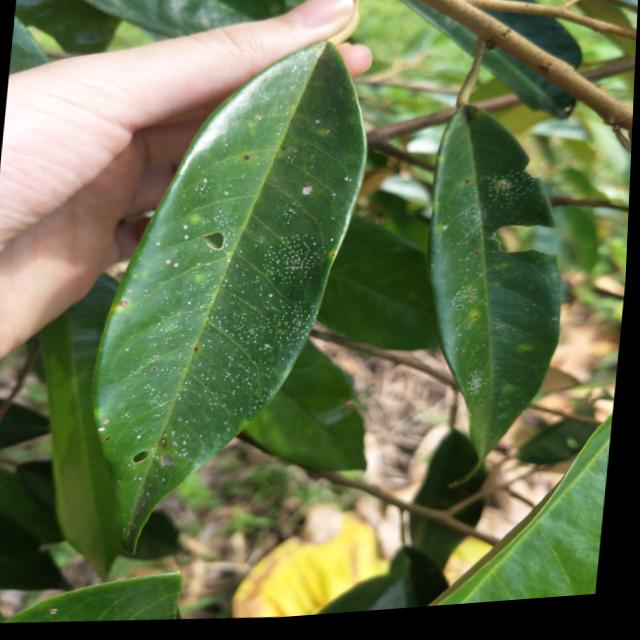Leaf Spot: (132, 177, 344, 441), (454, 161, 559, 227), (457, 362, 501, 417), (445, 284, 494, 328)
